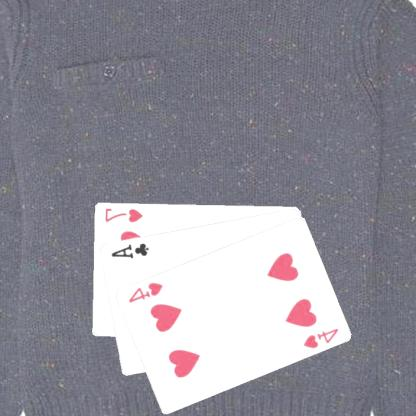4H: (302, 325, 341, 350), (127, 280, 165, 304)
7H: (103, 205, 146, 223)
AC: (110, 240, 151, 259)
